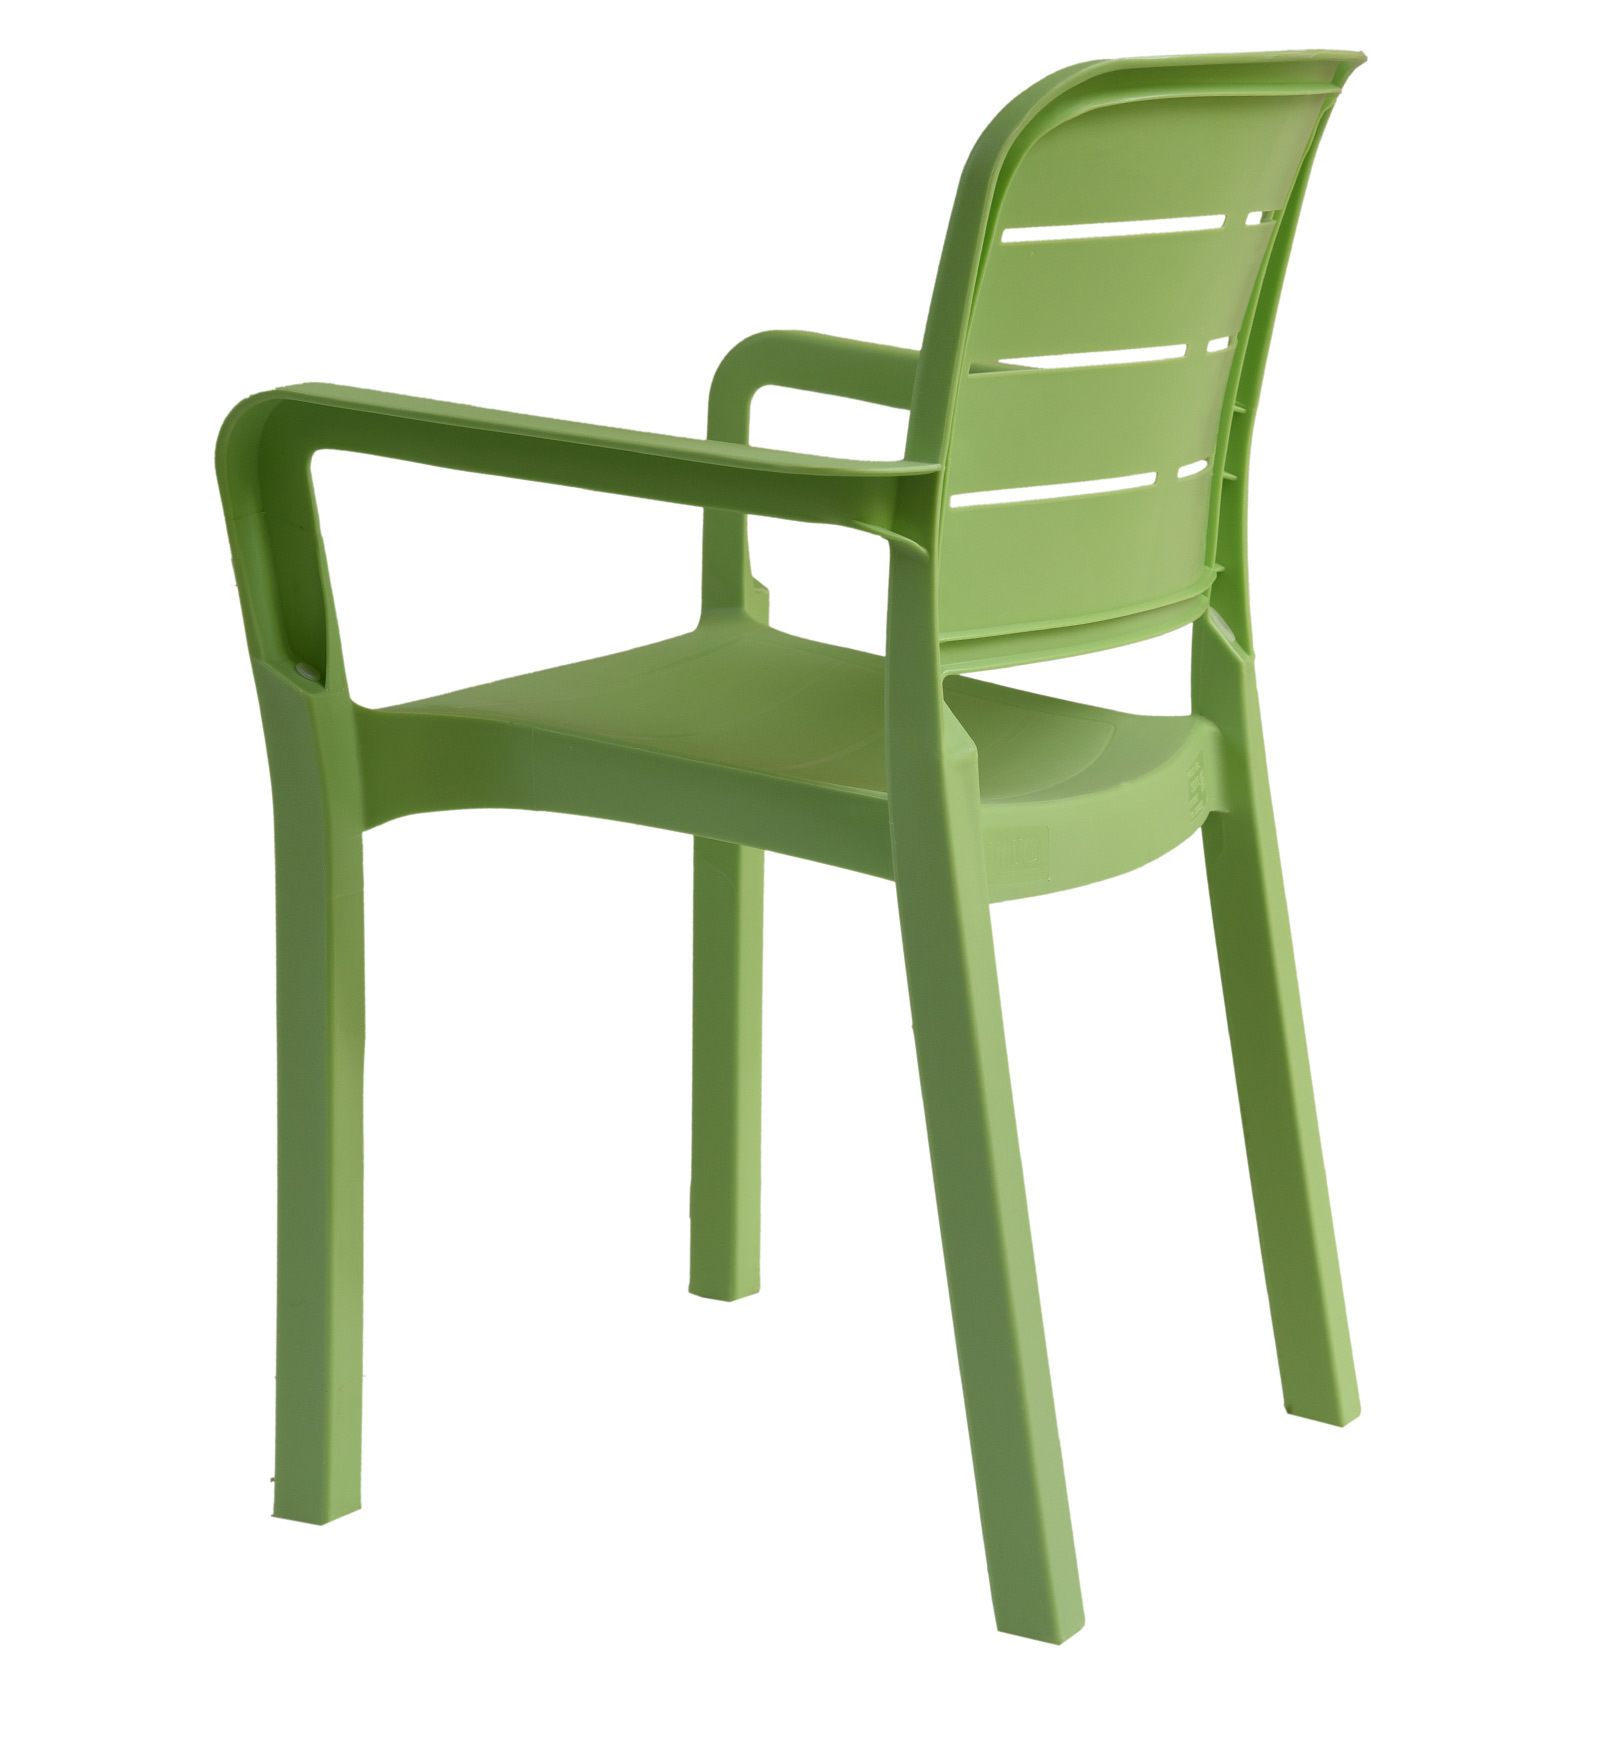Luxury Plastic Chair in Green Colour by Italica Furniture: (202, 31, 1362, 1643)
